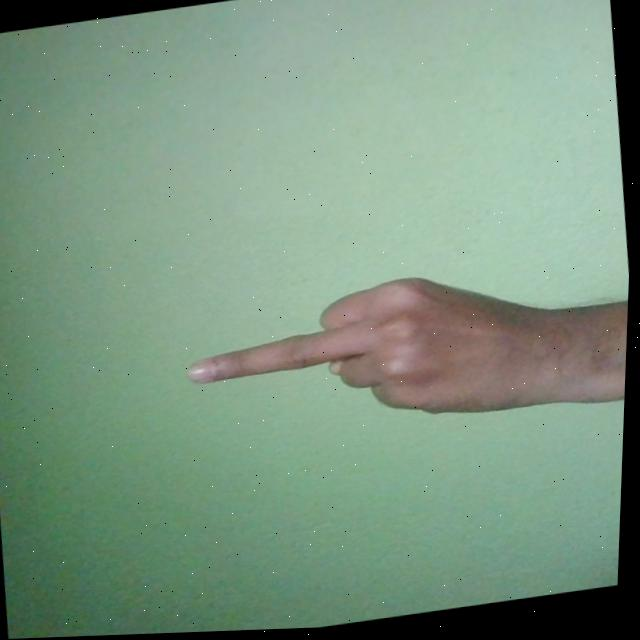Middle Finger: (179, 253, 624, 457)
